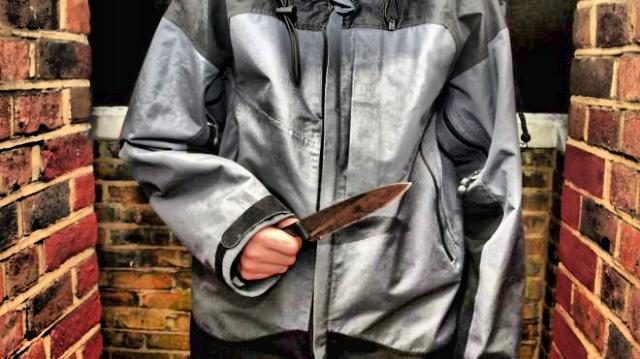knife: (241, 171, 423, 281)
